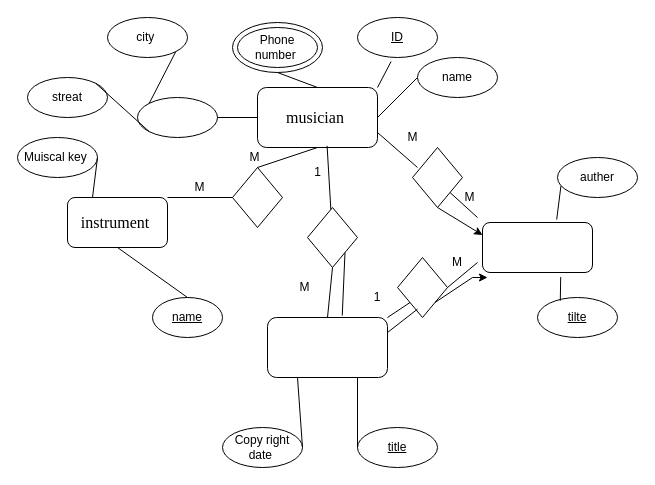
This 655x485 diagram has some shape labels left out. The centre of each missing label's shape, as x and y in pixels:
"address" belongs at point 177,117.
"album" belongs at point 327,347.
"has" belongs at point 422,287.
"perform" belongs at point 437,177.
"play" belongs at point 257,197.
"produce" belongs at point 332,237.
"song" belongs at point 537,247.
